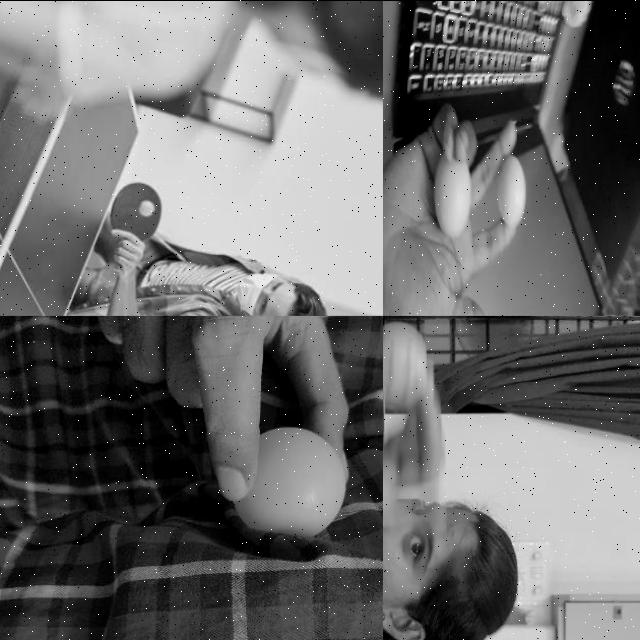ping-pong-ball: (232, 424, 346, 538), (384, 319, 426, 409), (434, 156, 472, 240), (498, 153, 526, 230), (140, 202, 155, 215)
